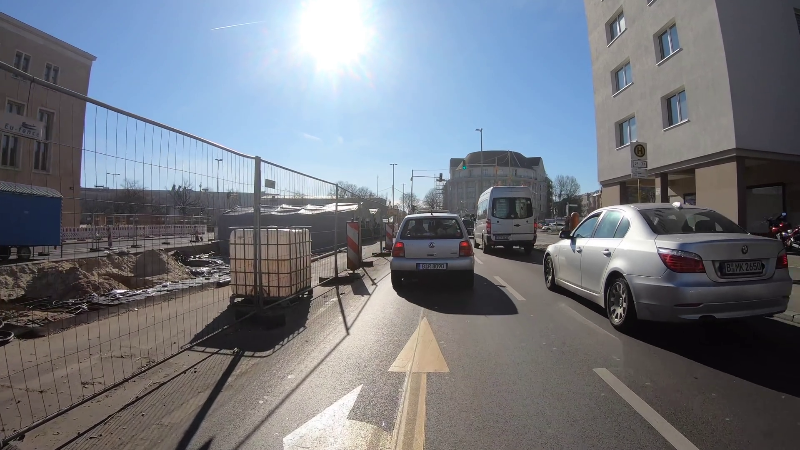Plate: (719, 260, 768, 274), (415, 262, 448, 270)
